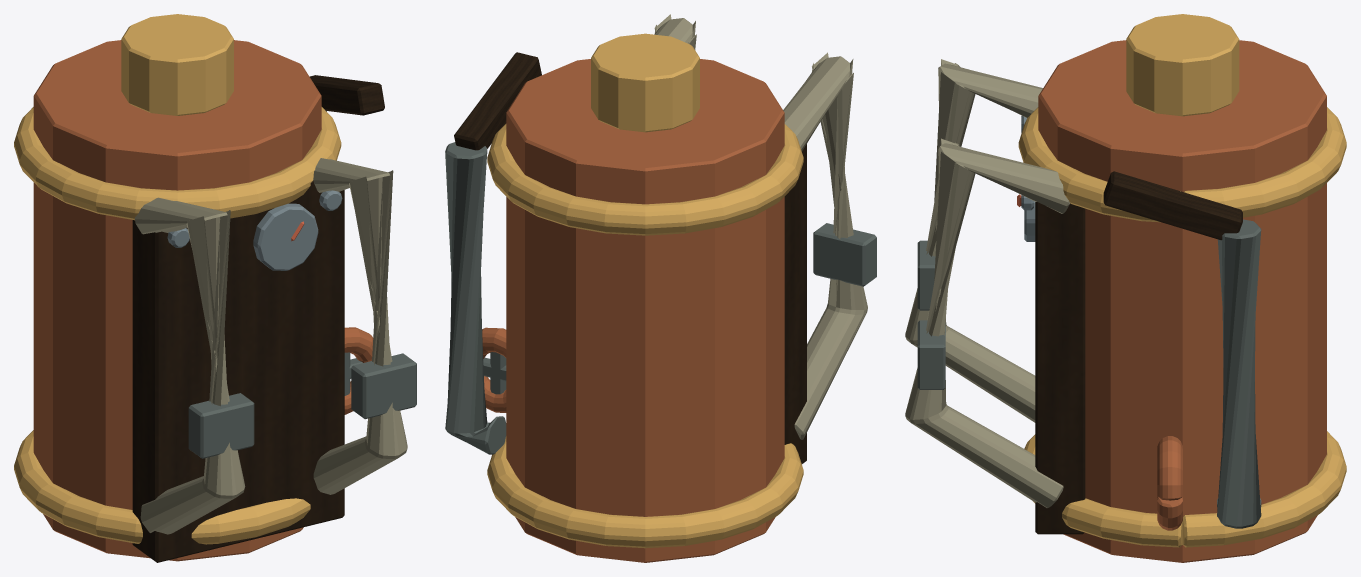
The model's file is WardenTank.glb.
3 views of the same model, side by side, from view 1: azimuth 30°, elevation 25°; view 2: azimuth 150°, elevation 25°; view 3: azimuth 270°, elevation 25° (orthographic). The views are drawn at different scales.
Visible parts, largest first — view 1: Backpack tank, Backplate, Shoulder strap, Shoulder strap.001, Tank binding.001, Filler cap, Tank binding, Strap buckle, Strap buckle.001, Pressure dial, Pump lever, Valve handwheel.001; view 2: Backpack tank, Tank binding.001, Tank binding, Pump riser, Shoulder strap, Filler cap, Backplate, Pump lever, Strap buckle, Valve handwheel.001, Shoulder strap.001, Valve spoke.003; view 3: Backpack tank, Backplate, Shoulder strap.001, Pump riser, Filler cap, Shoulder strap, Tank binding, Tank binding.001, Pump lever, Valve handwheel.001, Strap buckle.001, Strap buckle.
Boxes of the visible parts, box(x1,y1,x2,y2) form: Backpack tank: box(33, 40, 321, 561); Backplate: box(132, 180, 344, 562); Shoulder strap: box(134, 197, 245, 534); Shoulder strap.001: box(313, 158, 407, 494); Tank binding.001: box(14, 107, 341, 220); Filler cap: box(121, 14, 233, 115); Tank binding: box(14, 430, 310, 544); Strap buckle: box(188, 393, 254, 458); Strap buckle.001: box(351, 353, 416, 419); Pressure dial: box(253, 203, 318, 270); Pump lever: box(310, 75, 384, 115); Valve handwheel.001: box(344, 327, 373, 414); Backpack tank: box(506, 59, 784, 562); Tank binding.001: box(487, 123, 803, 235); Tank binding: box(487, 436, 803, 548); Pump riser: box(445, 142, 506, 454); Shoulder strap: box(783, 52, 867, 439); Filler cap: box(591, 33, 699, 132); Backplate: box(784, 144, 806, 463); Pump lever: box(454, 52, 541, 150); Strap buckle: box(813, 223, 876, 286); Valve handwheel.001: box(482, 327, 506, 412); Shoulder strap.001: box(654, 14, 696, 49); Valve spoke.003: box(490, 352, 506, 394); Backpack tank: box(1038, 40, 1326, 562); Backplate: box(1035, 202, 1085, 534); Shoulder strap.001: box(905, 138, 1069, 507); Pump riser: box(1217, 219, 1261, 528); Filler cap: box(1126, 14, 1239, 116); Shoulder strap: box(905, 59, 1042, 422); Tank binding: box(1024, 431, 1346, 547); Tank binding.001: box(1018, 107, 1346, 222); Pump lever: box(1103, 171, 1242, 240); Valve handwheel.001: box(1157, 436, 1182, 530); Strap buckle.001: box(917, 320, 945, 389); Strap buckle: box(917, 240, 935, 310).
Size of the model in its own units: 0.6259 by 0.82 by 0.7037.
7 materials, 1 textured.
